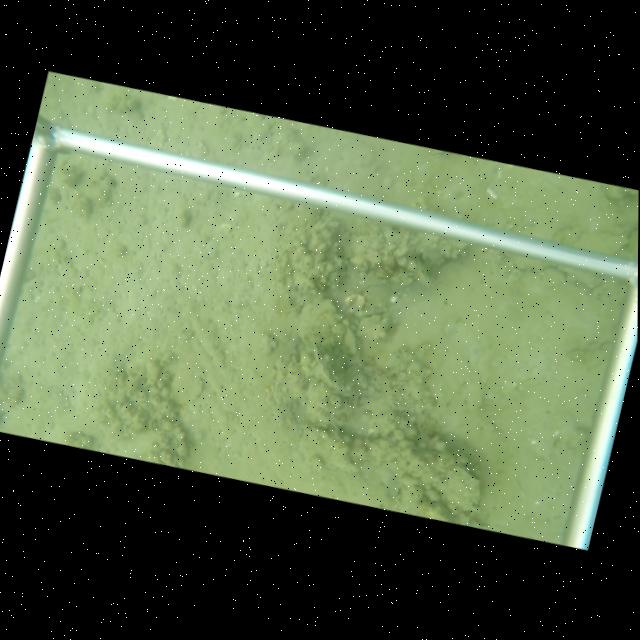Oyster-Closed: (308, 338, 345, 389), (407, 441, 441, 459), (293, 374, 308, 389), (309, 375, 323, 391)
Oyster-Indeterminate: (297, 426, 372, 480), (446, 461, 484, 513), (170, 364, 205, 403)
